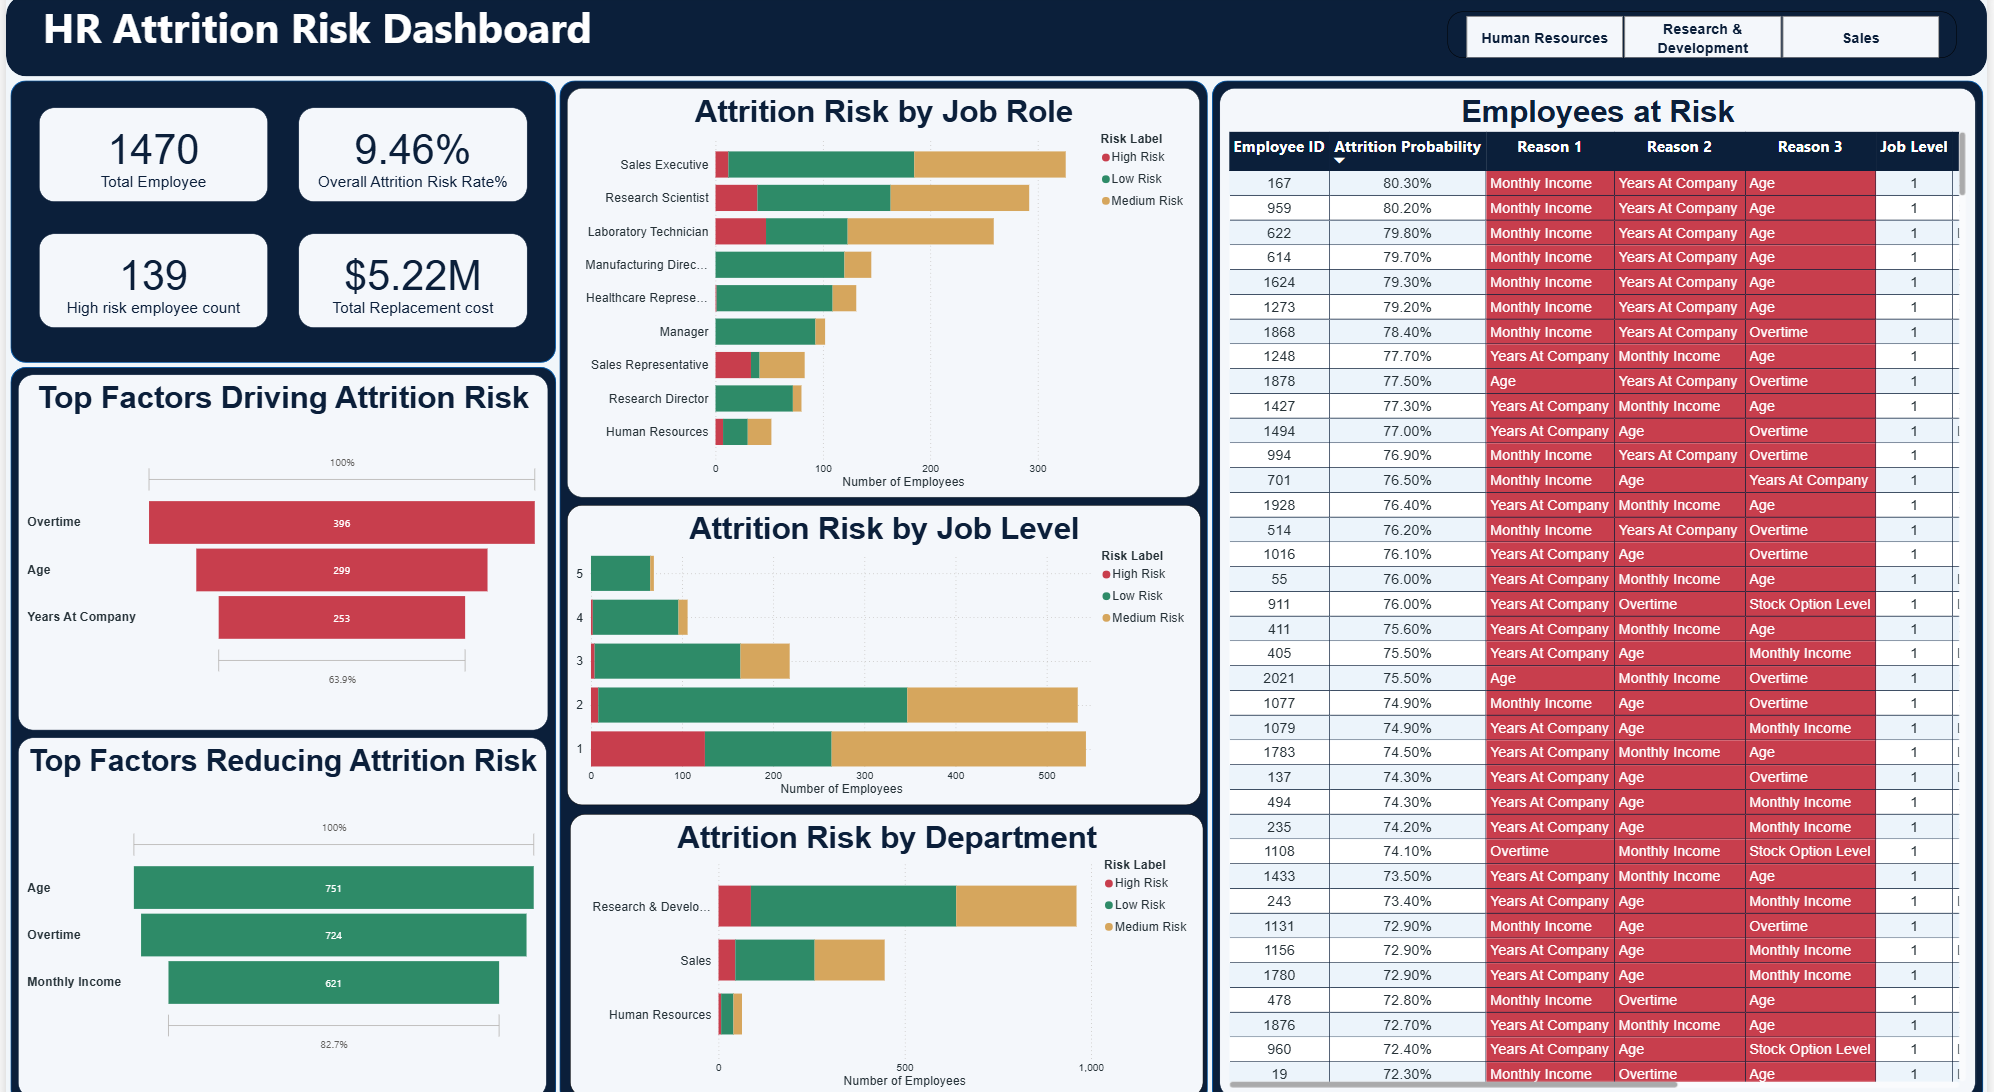

The dashboard page shown, as its layout file describes it:
{"tool":"powerbi","page":{"name":"Page 1","canvas":[2560,1440],"ordinal":0},"visuals":[{"type":"shape","box":[1558.1,110,997,1325],"z":0},{"type":"shape","box":[715,110,838,1325],"z":1000},{"type":"shape","box":[5.5,110.9,705,365],"z":2000},{"type":"tableEx","title":"Employees at Risk","fields":{"Values":["hr_arrition_risk latest_prediction.employee_id","hr_arrition_risk latest_prediction.attrition_probability","hr_arrition_risk latest_prediction.top_driver_1","hr_arrition_risk latest_prediction.top_driver_2","hr_arrition_risk latest_prediction.top_driver_3","hr_arrition_risk employee.job_level","hr_arrition_risk employee.job_role","hr_arrition_risk employee.department","hr_arrition_risk employee.replacement_cost"]},"box":[1568,120,977,1305],"z":3000},{"type":"card","fields":{"Values":["measure_table.Total Replacement cost"]},"box":[377.2,308.3,296.1,122.2],"z":4000,"group":"g1"},{"type":"shape","box":[5.3,480,705.4,954],"z":4000},{"type":"barChart","title":"Attrition Risk by Department","fields":{"Category":["hr_arrition_risk employee.department"],"Series":["hr_arrition_risk latest_prediction.risk_label"],"Y":["CountNonNull(hr_arrition_risk latest_prediction.employee_id)"]},"box":[729.1,1058.1,818.5,365.8],"z":5000},{"type":"funnel","title":"Top Factors Reducing Attrition Risk","fields":{"Category":["driver_long_final.driver_name"],"Y":["CountNonNull(driver_long_final.employee_id)"]},"box":[15.5,958.9,683.7,466.1],"z":6000},{"type":"funnel","title":"Top Factors Driving Attrition Risk","fields":{"Category":["driver_long_final.driver_name"],"Y":["CountNonNull(driver_long_final.employee_id)"]},"box":[15,490,685,460],"z":7000},{"type":"shape","box":[0,0,2560.9,105.3],"z":8000},{"type":"textbox","box":[42.2,0,732.5,98.5],"z":9000},{"type":"slicer","fields":{"Values":["hr_arrition_risk employee.department"]},"box":[1863.4,21.1,658.1,60.1],"z":10000},{"type":"group","id":"g1","title":"Group 1","box":[42,146,632,284],"z":11000},{"type":"card","fields":{"Values":["measure_table.High risk employee count"]},"box":[42,308.3,296.1,122.2],"z":11000,"group":"g1"},{"type":"barChart","title":"Attrition Risk by Job Role","fields":{"Category":["hr_arrition_risk employee.job_role"],"Series":["hr_arrition_risk latest_prediction.risk_label"],"Y":["CountNonNull(hr_arrition_risk latest_prediction.employee_id)"]},"box":[725,120,818,529.5],"z":12000},{"type":"card","fields":{"Values":["measure_table.Total Employee"]},"box":[42,146,296.1,122.2],"z":12000,"group":"g1"},{"type":"card","fields":{"Values":["Measure Table.Overall Attrition Risk Rate%"]},"box":[377.2,146,296.1,122.2],"z":13000,"group":"g1"},{"type":"barChart","title":"Attrition Risk by Job Level","fields":{"Category":["hr_arrition_risk employee.job_level"],"Series":["hr_arrition_risk latest_prediction.risk_label"],"Y":["CountNonNull(hr_arrition_risk latest_prediction.employee_id)"]},"box":[725.8,659,819.1,388],"z":13000}]}

Visuals, with their boxes in screenshot pixels (x1, y1, x2, y2), scaled from the page's 2560x1440 canvas onto the 1994x1092 screenshot:
shape: (x1=1214, y1=83, x2=1990, y2=1088)
shape: (x1=557, y1=83, x2=1210, y2=1088)
shape: (x1=4, y1=84, x2=553, y2=361)
"Employees at Risk" tableEx: (x1=1221, y1=91, x2=1982, y2=1081)
card - measure_table.Total Replacement cost: (x1=294, y1=234, x2=524, y2=326)
shape: (x1=4, y1=364, x2=554, y2=1087)
"Attrition Risk by Department" barChart: (x1=568, y1=802, x2=1205, y2=1080)
"Top Factors Reducing Attrition Risk" funnel: (x1=12, y1=727, x2=545, y2=1081)
"Top Factors Driving Attrition Risk" funnel: (x1=12, y1=372, x2=545, y2=720)
shape: (x1=0, y1=0, x2=1993, y2=80)
textbox: (x1=33, y1=0, x2=603, y2=75)
slicer - hr_arrition_risk employee.department: (x1=1451, y1=16, x2=1964, y2=62)
"Group 1" group: (x1=33, y1=111, x2=525, y2=326)
card - measure_table.High risk employee count: (x1=33, y1=234, x2=263, y2=326)
"Attrition Risk by Job Role" barChart: (x1=565, y1=91, x2=1202, y2=493)
card - measure_table.Total Employee: (x1=33, y1=111, x2=263, y2=203)
card - Measure Table.Overall Attrition Risk Rate%: (x1=294, y1=111, x2=524, y2=203)
"Attrition Risk by Job Level" barChart: (x1=565, y1=500, x2=1203, y2=794)
